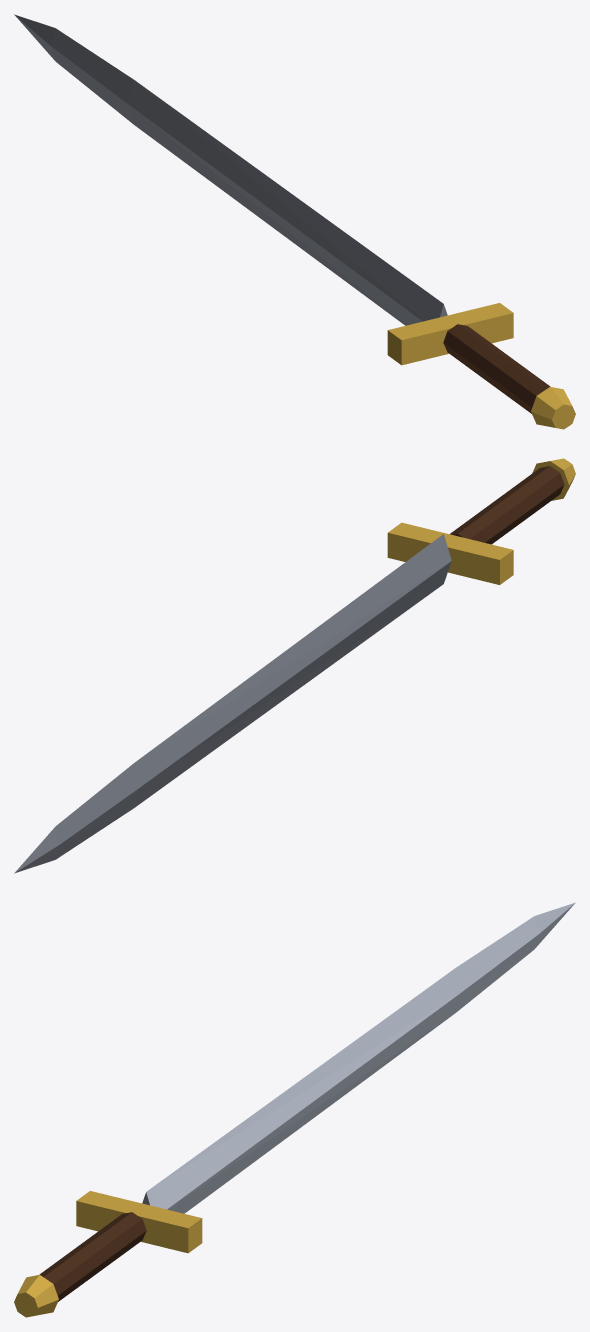
File: sword.glb
3 renders of one model, top to bottom at view 1: azimuth 30°, elevation 25°; view 2: azimuth 150°, elevation 25°; view 3: azimuth 330°, elevation 25°, orthographic.
Visible parts, largest first — view 1: Sword; view 2: Sword; view 3: Sword.
Boxes of the visible parts, left/top/right/bottom form: Sword: left=14, top=14, right=575, bottom=429; Sword: left=14, top=458, right=575, bottom=873; Sword: left=14, top=902, right=575, bottom=1317.
Bounding box in the file's own units: 0.14 × 0.06 × 1.19.
